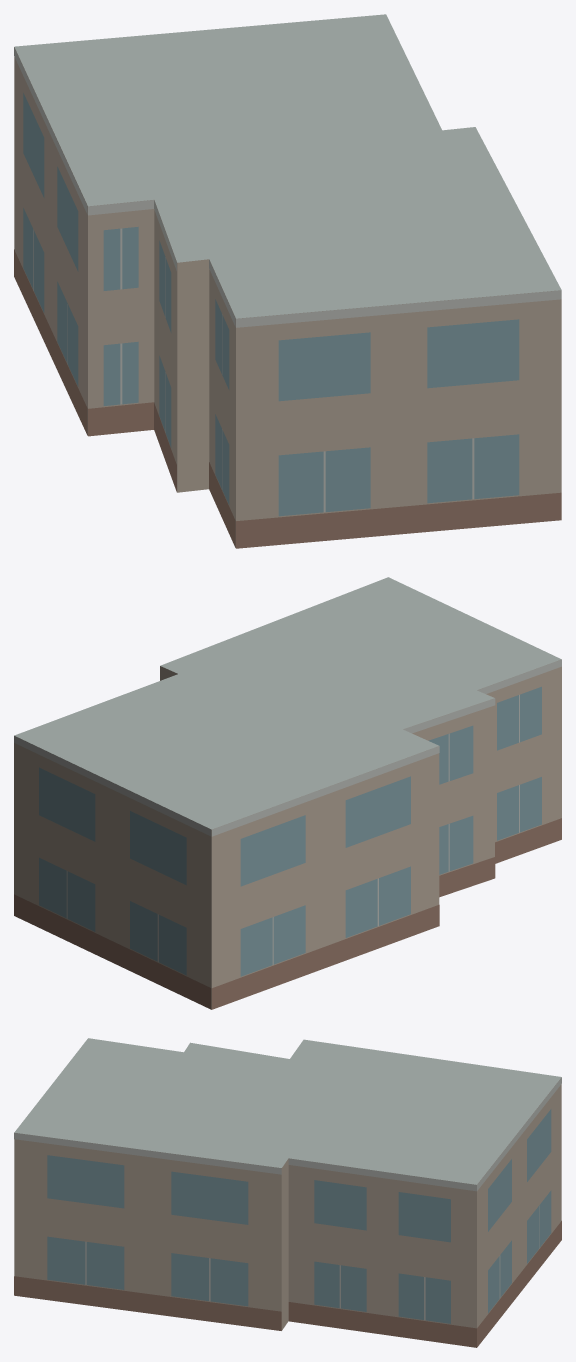
File: survey-upis-32670906.glb
The picture shows the model from 3 angles, top to bottom: view 1: azimuth 30°, elevation 25°; view 2: azimuth 150°, elevation 25°; view 3: azimuth 270°, elevation 25°; orthographic projection. The views are drawn at different scales.
Visible parts, largest first — view 1: survey-upis-32670906.tmp; view 2: survey-upis-32670906.tmp; view 3: survey-upis-32670906.tmp.
Part boxes in pixels (bbox=[...]): survey-upis-32670906.tmp: bbox=[14, 14, 561, 548]; survey-upis-32670906.tmp: bbox=[14, 577, 561, 1009]; survey-upis-32670906.tmp: bbox=[14, 1038, 561, 1347].
Size of the model in its own units: 11.8 by 6.1 by 18.59.
